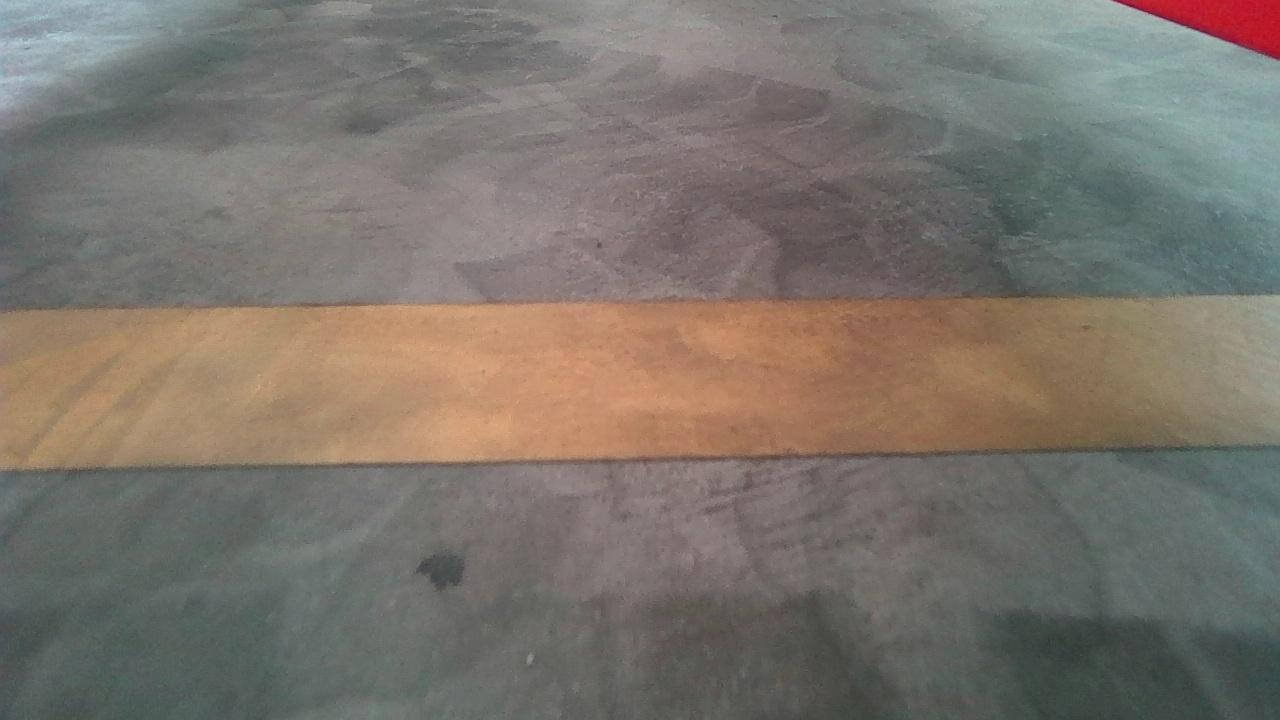yellow_line: (5, 275, 1267, 483)
